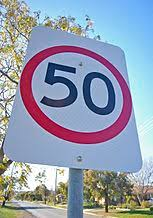sp50: (29, 37, 135, 150)
